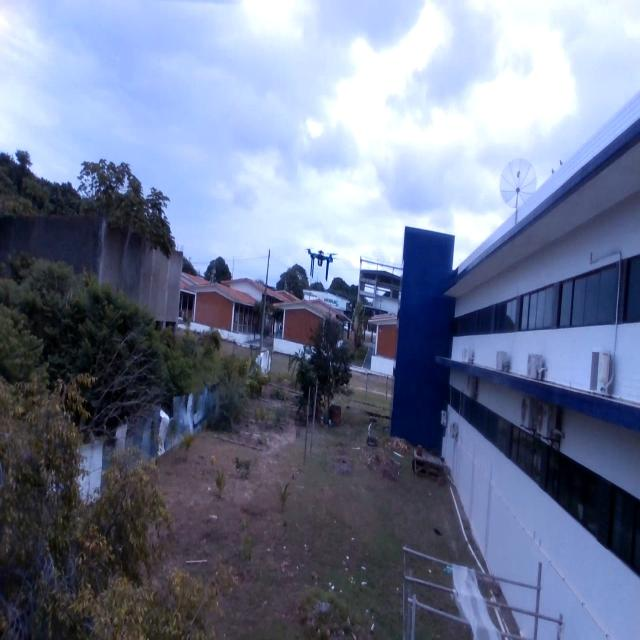-uav-: (302, 234, 341, 285)
